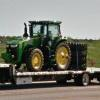Tractor: (6, 14, 83, 72)
